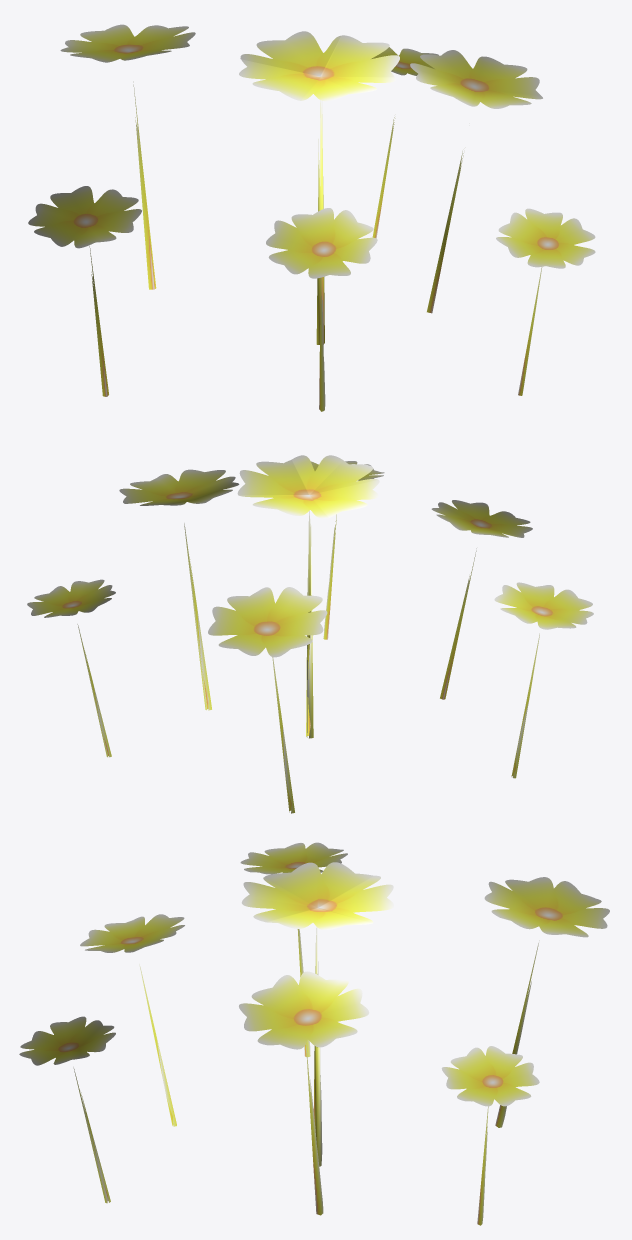
File: Flower_Yellow.fbx
3 views of the same model, one above another, from view 1: azimuth 30°, elevation 25°; view 2: azimuth 150°, elevation 25°; view 3: azimuth 270°, elevation 25° (orthographic). The views are drawn at different scales.
Parts seen in each view (by area): view 1: Flower_Yellow; view 2: Flower_Yellow; view 3: Flower_Yellow.
Part boxes in pixels (x1,y1,x2,y2): Flower_Yellow: (28, 24, 595, 411); Flower_Yellow: (27, 455, 593, 813); Flower_Yellow: (19, 842, 609, 1225).
Bounding box in the file's own units: 1.41 × 0.708 × 1.44.
